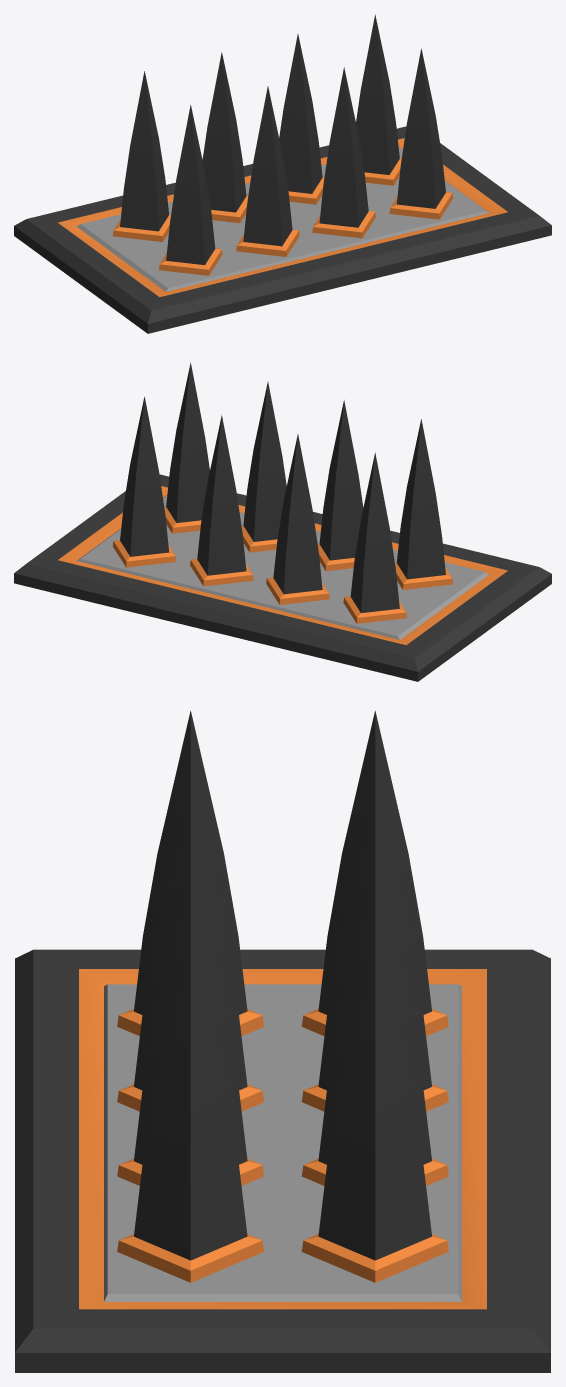
Rendered from hazards-spikes.fbx.
3 views of the same model, one above another, from view 1: azimuth 30°, elevation 25°; view 2: azimuth 150°, elevation 25°; view 3: azimuth 270°, elevation 25° (orthographic). The views are drawn at different scales.
Parts seen in each view (by area): view 1: Cube.008; view 2: Cube.008; view 3: Cube.008.
Boxes of the visible parts, <box> form: Cube.008: <box>14,14,551,333</box>; Cube.008: <box>14,362,551,681</box>; Cube.008: <box>15,711,550,1372</box>.
Bounding box in the file's own units: 676 × 282 × 388.
